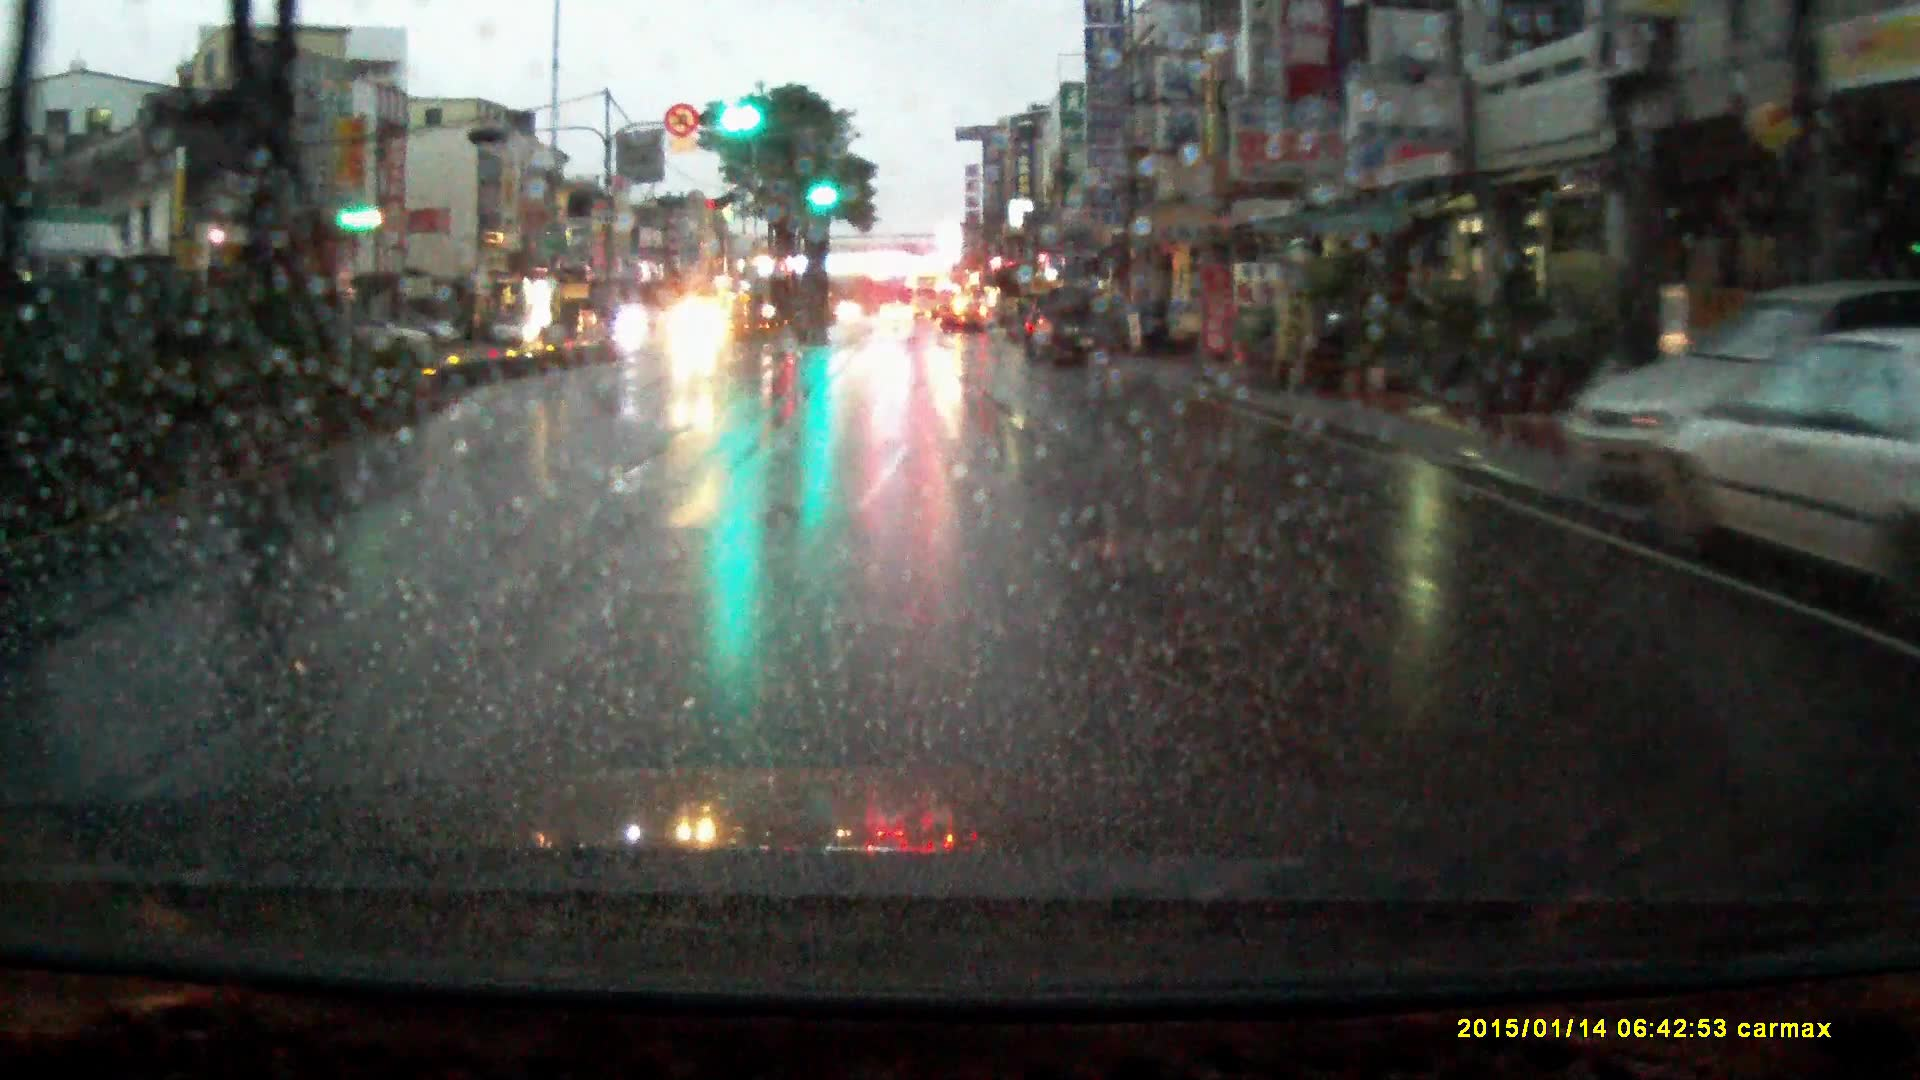vehicle: (1556, 280, 1920, 533), (1647, 334, 1920, 628), (1019, 284, 1105, 369), (666, 301, 735, 351), (367, 316, 434, 357), (593, 302, 655, 342), (491, 309, 550, 345), (942, 295, 990, 335), (1164, 299, 1204, 348), (910, 276, 943, 320), (880, 302, 916, 326)
